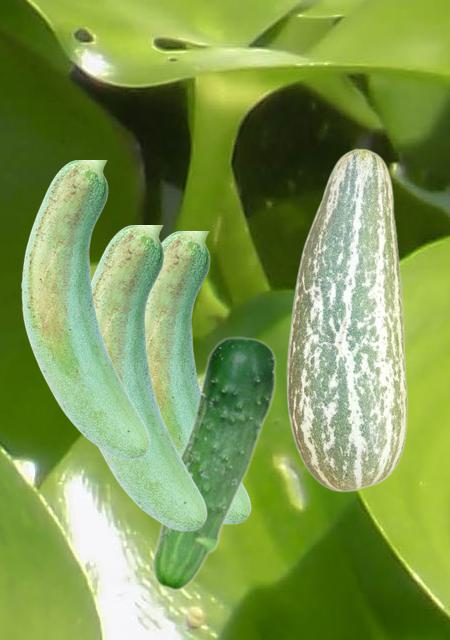cucumber: (286, 148, 407, 491), (21, 160, 149, 458), (92, 225, 206, 530), (151, 336, 276, 590), (146, 231, 250, 523)
